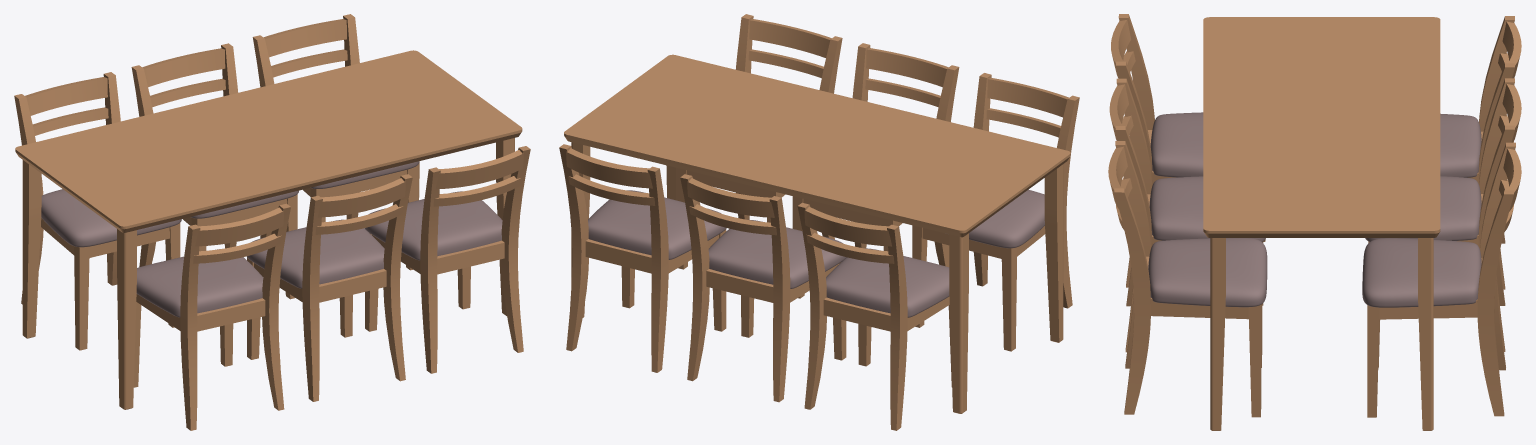
Rendered from 586_ダイニングテーブルセット6人掛け.glb.
3 renders of one model, left to right at view 1: azimuth 30°, elevation 25°; view 2: azimuth 150°, elevation 25°; view 3: azimuth 270°, elevation 25°, orthographic. The views are drawn at different scales.
Parts seen in each view (by area): view 1: Body, chair4, chair5, chair6, chair1, chair2, chair3; view 2: Body, chair1, chair3, chair2, chair4, chair5, chair6; view 3: Body, chair6, chair3, chair5, chair4, chair2, chair1.
Boxes of the visible parts, x1,y1,x2,y2 form: Body: (15, 50, 522, 409); chair4: (133, 203, 290, 430); chair5: (246, 174, 412, 401); chair6: (364, 146, 530, 373); chair1: (14, 72, 181, 350); chair2: (131, 43, 298, 299); chair3: (252, 14, 419, 270); Body: (564, 54, 1070, 413); chair1: (797, 202, 952, 430); chair3: (559, 144, 726, 372); chair2: (680, 174, 846, 402); chair4: (912, 73, 1079, 351); chair5: (792, 43, 959, 298); chair6: (676, 14, 842, 269); Body: (1203, 17, 1440, 430); chair6: (1108, 141, 1267, 417); chair3: (1362, 142, 1521, 417); chair5: (1109, 78, 1265, 354); chair4: (1111, 14, 1265, 287); chair2: (1365, 78, 1521, 351); chair1: (1440, 16, 1521, 289).
Bounding box in the file's own units: 1.6 × 0.78 × 1.31.
